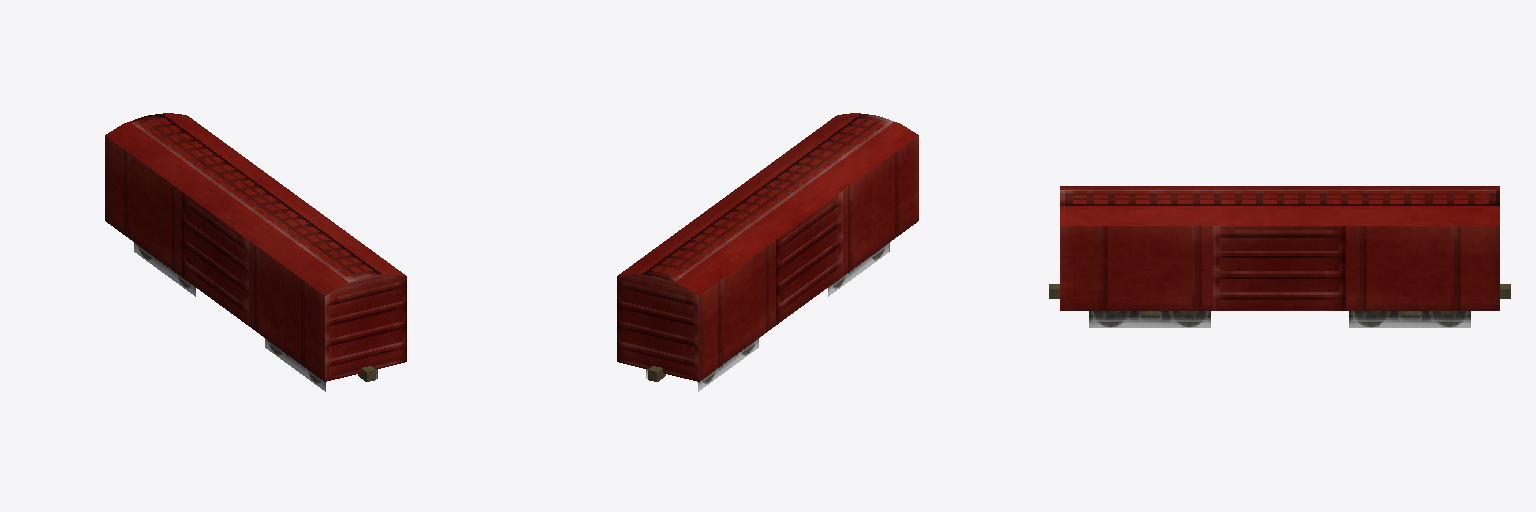
3 views of the same model, side by side, from view 1: azimuth 30°, elevation 25°; view 2: azimuth 150°, elevation 25°; view 3: azimuth 270°, elevation 25° (orthographic).
Parts seen in each view (by area): view 1: Cube.008; view 2: Cube.008; view 3: Cube.008.
Boxes of the visible parts, box(x1,y1,x2,y2) form: Cube.008: box(105, 113, 406, 391); Cube.008: box(617, 113, 918, 391); Cube.008: box(1049, 186, 1510, 327).
Size of the model in its own units: 3.06 by 4.26 by 14.94.
Materials: 1 (1 with a texture image).